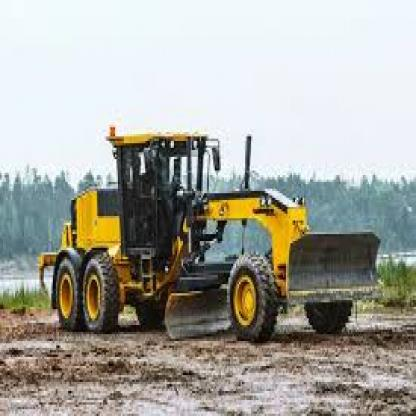bull_dozer/loader/grader: (29, 116, 389, 352)
